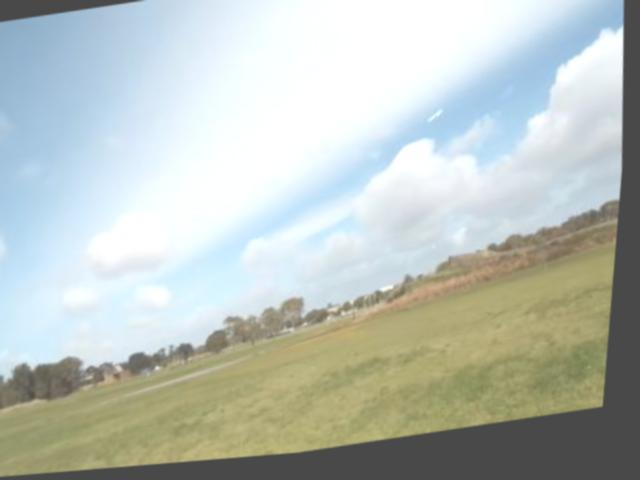uav: (424, 109, 450, 136)
